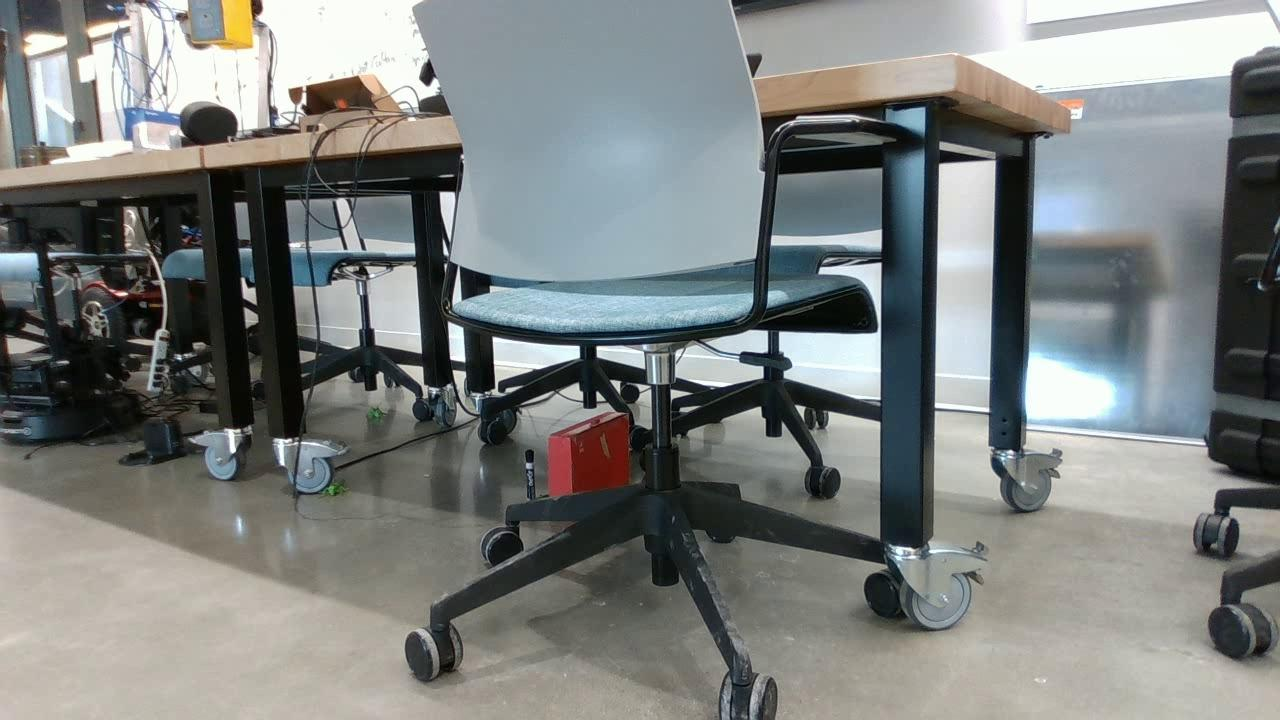grasshopper: (321, 475, 343, 497), (366, 404, 385, 420)
